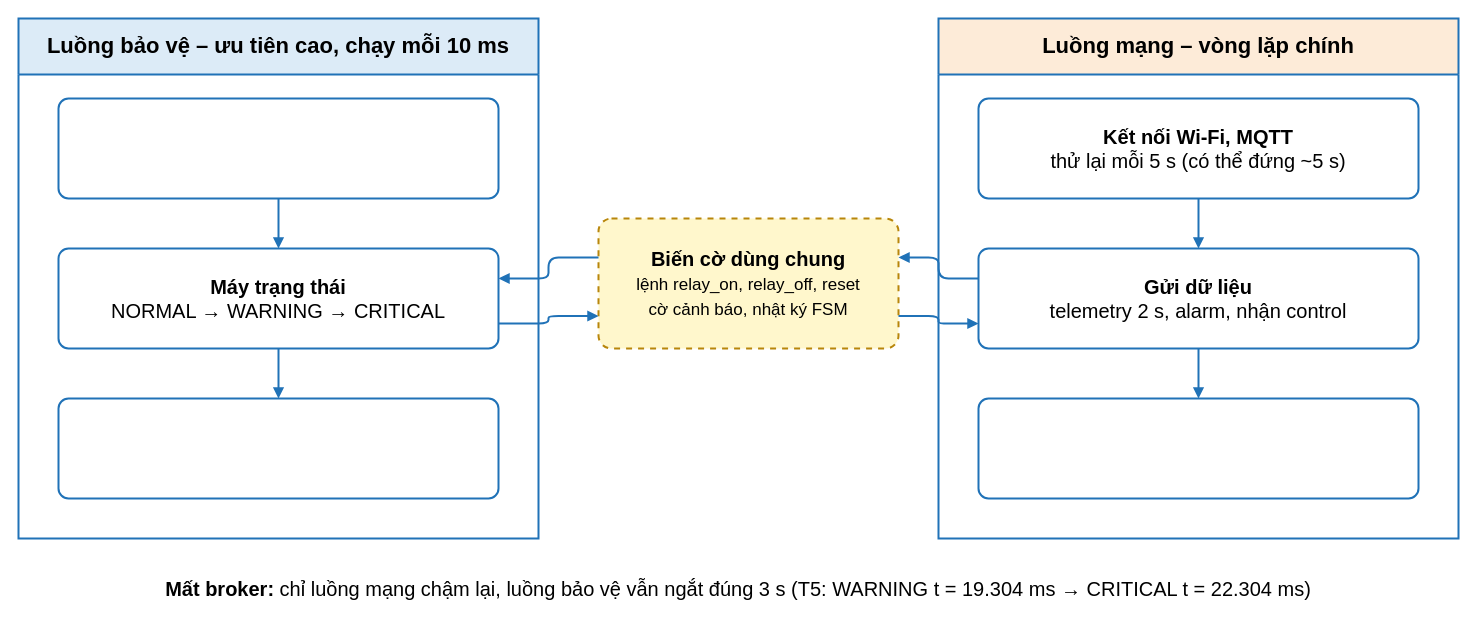
Image size: 1476x635. Some labels were removed from this diagram. Each missing label, with the centre of its shape:
In nhật ký Serial kèm thời điểm chuyển trạng thái: the point at 1198,448
LED, còi, relay ngắt tải đúng 3 s sau khi quá tải: the point at 278,448
Đọc biến trở (ADC) lọc trung bình 8 mẫu, tính P, I, E: the point at 278,148
